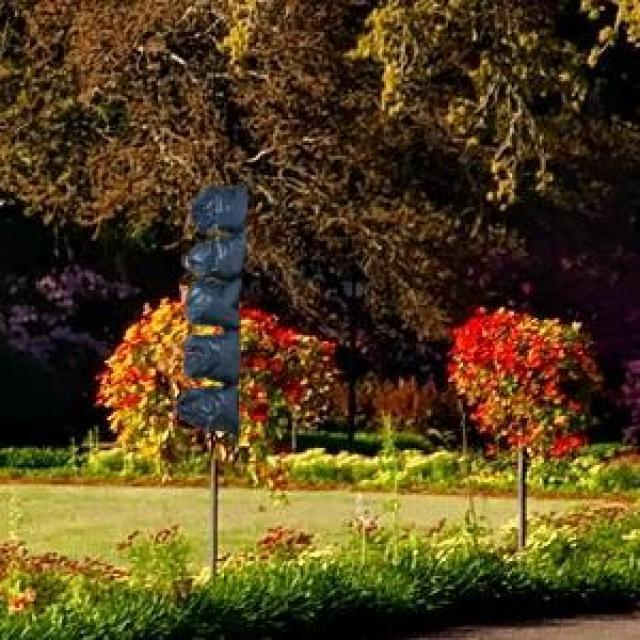waste: (179, 186, 248, 433)
